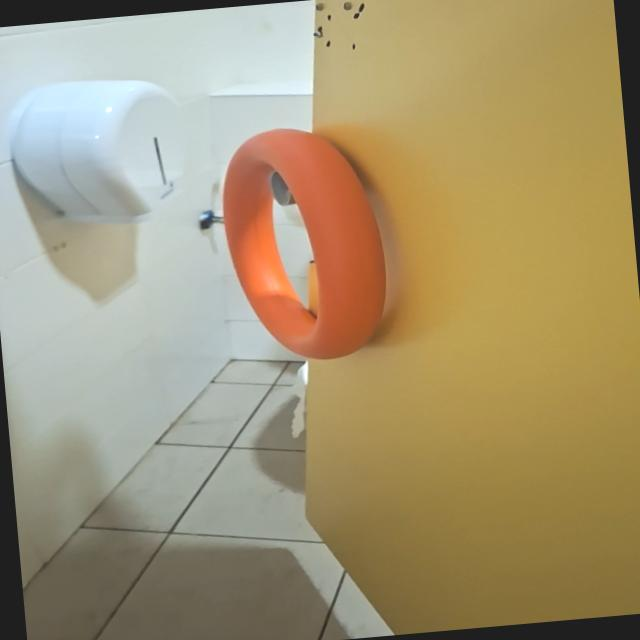note: (213, 118, 394, 368)
